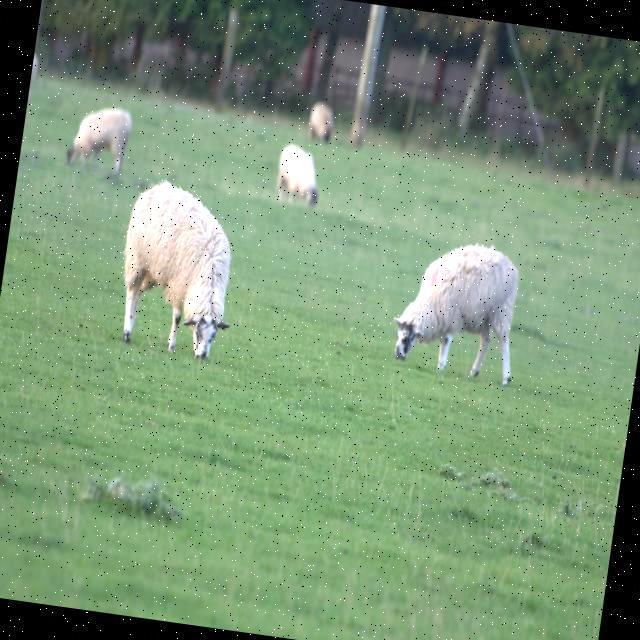sheep: (125, 181, 232, 357), (394, 244, 519, 384), (69, 108, 132, 169), (278, 145, 318, 206)
